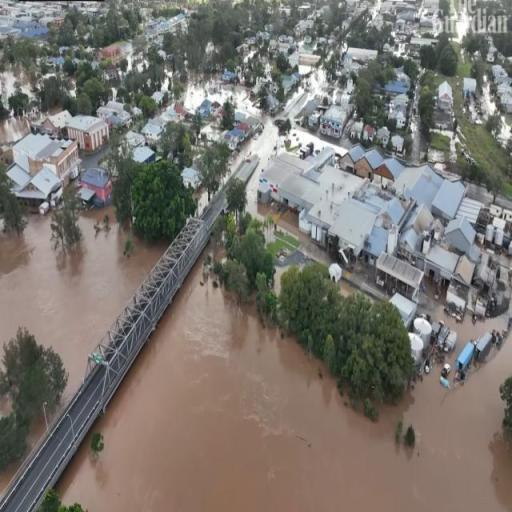flood: (55, 264, 512, 512), (0, 208, 167, 398), (247, 166, 334, 265), (418, 277, 510, 352), (231, 118, 286, 216), (185, 80, 253, 110), (293, 128, 352, 155), (339, 271, 390, 300), (0, 68, 31, 108), (0, 113, 30, 145), (306, 66, 328, 95), (452, 10, 472, 41), (274, 266, 289, 293), (502, 113, 512, 140)
house: (14, 139, 78, 209), (34, 133, 80, 188), (424, 242, 472, 288), (66, 112, 110, 156), (78, 166, 116, 212), (302, 197, 333, 252), (338, 143, 380, 181), (444, 215, 478, 249), (318, 105, 347, 143), (222, 122, 248, 150), (438, 80, 453, 107), (182, 168, 202, 188), (40, 115, 60, 134), (143, 122, 161, 142)
